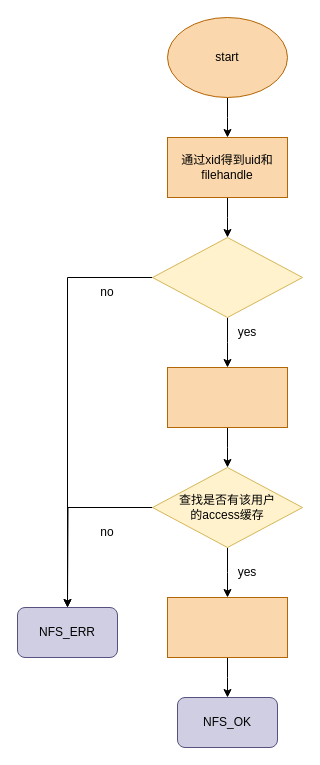
This 320x765 diagram has some shape labels left out. Here are the shapes that lost their labels. From the top down, the centre of each, then its label:
point (227, 277): 是否有该filehandle 对应缓存
point (227, 397): 创建用户对应hash_key
point (227, 627): 更新缓存
